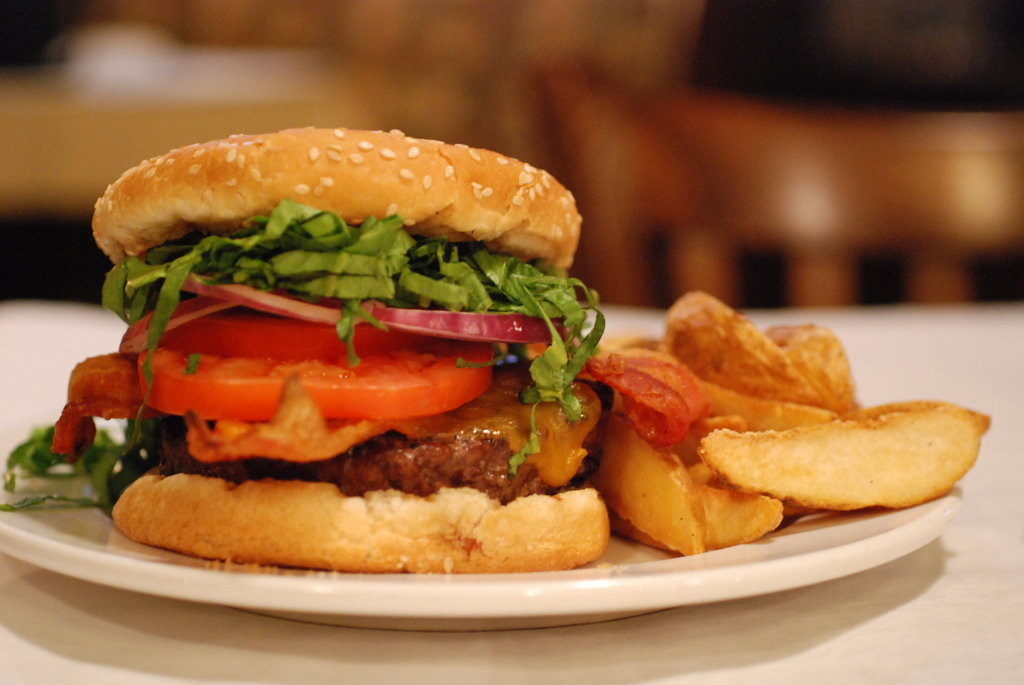Hamburger: (51, 124, 616, 566)
